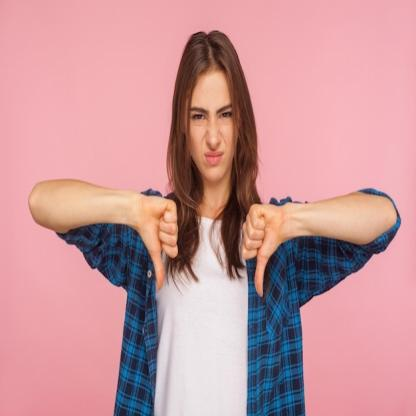thumb_down: (138, 190, 180, 293), (240, 199, 282, 301)
